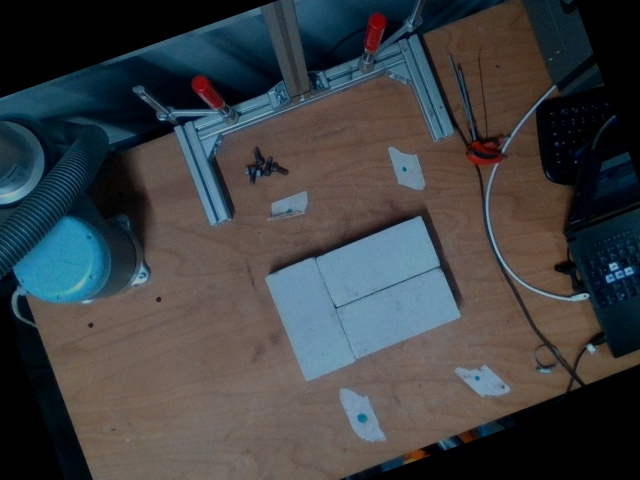brick: (337, 268, 460, 358), (317, 216, 439, 305), (267, 258, 355, 381)
